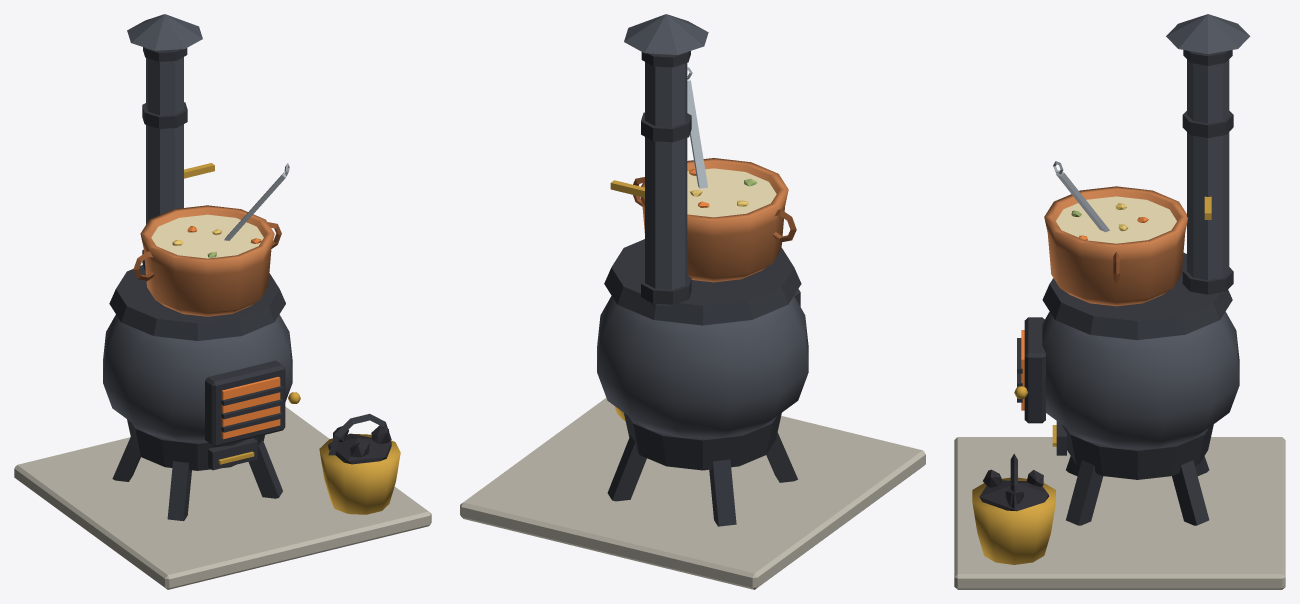
File: chowder_stove.glb
The picture shows the model from 3 angles, left to right: view 1: azimuth 30°, elevation 25°; view 2: azimuth 150°, elevation 25°; view 3: azimuth 270°, elevation 25°; orthographic projection. The views are drawn at different scales.
Visible parts, largest first — view 1: chowder_stove; view 2: chowder_stove; view 3: chowder_stove.
Part boxes in pixels (left/top/right/bottom): chowder_stove: left=14, top=14, right=431, bottom=589; chowder_stove: left=460, top=14, right=925, bottom=589; chowder_stove: left=954, top=14, right=1285, bottom=589.
Bounding box in the file's own units: 0.94 × 1.56 × 0.94.
